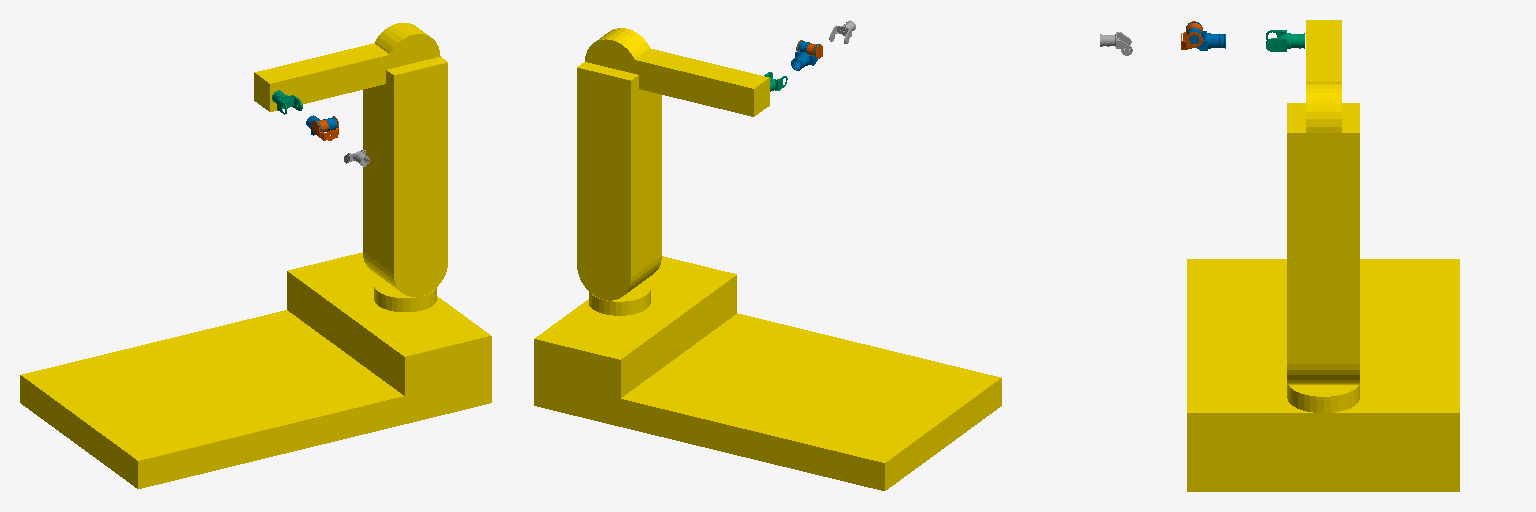
URDF robot description (rover_crane):
<?xml version="1.0" ?>
<robot name="rover_crane">

    <material name="gold">
        <color rgba="1 0.882 0 1"/>
    </material>

    <link name="rover_base_link">        
        <visual>
            <origin xyz="0 0 0.125" rpy="0 0 0" />
            <geometry>
               <box size="2.6 1.5 0.2"/>
            </geometry>
            <material name="gold"/>
        </visual>
        <collision>
            <origin xyz="0 0 0.125" rpy="0 0 0" />
            <geometry>
                <box size="2.6 1.5 0.2"/>
            </geometry>
        </collision>

        <visual>
            <!-- 1.3 - 0.32 -->
            <origin xyz=".98 0 0.35" rpy="0 0 0" />
            <geometry>
               <box size="0.64 1.5 0.3"/>
            </geometry>
            <material name="gold"/>
        </visual>
        <collision>
            <origin xyz=".98 0 0.35" rpy="0 0 0" />
            <geometry>
                <box size="0.64 1.5 0.3"/>
            </geometry>
        </collision>  
    </link>
    
    <link name="crane_base_link"/>

    <joint name="fix_to_chassis" type="fixed">
        <parent link="rover_base_link"/>
        <child link="crane_base_link"/>
        <origin xyz="1.1 0 0.5" rpy="0 0 0"/>
    </joint>

    <link name="crane_yaw">
        <visual>
            <origin xyz="0 0 0.05" rpy="0 0 0" />
            <geometry>
               <cylinder length="0.1" radius="0.2"/>
            </geometry>
            <material name="gold"/>
        </visual>
        <collision>
            <origin xyz="0 0 0.05" rpy="0 0 0" />
            <geometry>
                <cylinder length="0.1" radius="0.2"/>
            </geometry>
        </collision>    
    </link>
    
    <joint name="joint0_1" type="revolute">
        <parent link="crane_base_link"/>
        <child link="crane_yaw"/>
        <origin xyz="0 0 0" rpy="0 0 0"/>
        <axis xyz="0 0 1"/>
        <limit lower="-0.523599" upper="0.523599" effort="0" velocity="0"/>
    </joint>

    <link name="crane_link1">
        <visual>
            <origin xyz="0 0 0" rpy="1.5708 0 0" />
            <geometry>
               <cylinder length="0.4" radius="0.2"/>
            </geometry>
            <material name="gold"/>
        </visual>
        <collision>
            <origin xyz="0 0 0" rpy="1.5708 0 0" />
            <geometry>
                <cylinder length="0.4" radius="0.2"/>
            </geometry>
        </collision>  

        <visual>
            <origin xyz="-0.7 0 0" rpy="0 0 0" />
            <geometry>
               <box size="1.4 0.4 0.4"/>
            </geometry>
            <material name="gold"/>
        </visual>
        <collision>
            <origin xyz="-0.7 0 0" rpy="0 0 0" />
            <geometry>
                <box size="1.4 0.4 0.4"/>
            </geometry>
        </collision>
    </link>


    <joint name="joint0_2" type="revolute">
        <parent link="crane_yaw"/> 
        <child link="crane_link1"/>
        <origin xyz="0 0 0.3" rpy="0 1.5708 0"/>
        <axis xyz="0 1 0"/>
        <limit lower="0.0" upper="1.5708" effort="0" velocity="0"/>
    </joint>


    <link name="crane_link2">
        <visual>
            <origin xyz="0.55 0 0" rpy="0 0 0" />
            <geometry>
               <box size="1.1 0.35 0.35"/>
            </geometry>
            <material name="gold"/>
        </visual>
        <collision>
            <origin xyz="0.55 0 0" rpy="0 0 0" />
            <geometry>
                <box size="1.1 0.35 0.35"/>
            </geometry>
        </collision>
    </link>

    <joint name="joint0_3" type="prismatic">
        <parent link="crane_link1"/>
        <child link="crane_link2"/>
        <origin xyz="-1.4 0 0" rpy="0 0 0"/>
        <axis xyz="-1 0 0"/>
        <limit lower="0.0" upper="1.1" effort="0" velocity="0"/>
    </joint>

    <link name="crane_link3">
        <visual>
            <origin xyz="0.55 0 0" rpy="0 0 0" />
            <geometry>
               <box size="1.1 0.3 0.3"/>
            </geometry>
            <material name="gold"/>
        </visual>
        <collision>
            <origin xyz="0.55 0 0" rpy="0 0 0" />
            <geometry>
                <box size="1.1 0.3 0.3"/>
            </geometry>
        </collision>
    </link>

    <joint name="joint0_4" type="prismatic">
        <parent link="crane_link2"/>
        <child link="crane_link3"/>
        <origin xyz="0 0 0" rpy="0 0 0"/>
        <axis xyz="-1 0 0"/>
        <limit lower="0.0" upper="1.1" effort="0" velocity="0"/>
    </joint>

    <link name="crane_link4">
        <visual>
            <origin xyz="0.55 0 0" rpy="0 0 0" />
            <geometry>
               <box size="1.1 0.25 0.25"/>
            </geometry>
            <material name="gold"/>
        </visual>
        <collision>
            <origin xyz="0.55 0 0" rpy="0 0 0" />
            <geometry>
                <box size="1.1 0.25 0.25"/>
            </geometry>
        </collision>
    </link>

    <joint name="joint0_5" type="prismatic">
        <parent link="crane_link3"/>
        <child link="crane_link4"/>
        <origin xyz="0 0 0" rpy="0 0 0"/>
        <axis xyz="-1 0 0"/>
        <limit lower="0.0" upper="1.1" effort="0" velocity="0"/>
    </joint>

    <link name="tip">
        <visual>
            <origin xyz="0 0 0" rpy="1.5708 0 0" />
            <geometry>
               <cylinder length="0.2" radius="0.2"/>
            </geometry>
            <material name="gold"/>
        </visual>
        <collision>
            <origin xyz="0 0 0" rpy="1.5708 0 0" />
            <geometry>
               <cylinder length="0.2" radius="0.2"/>
            </geometry>
            <material name="gold"/>
        </collision>
        
        <visual>
            <!-- 0.5 + 0.054 -->
            <origin xyz="0 0 -0.554" rpy="0 0 0" />
            <geometry>
               <box size="0.2 0.2 1.0"/>
            </geometry>
            <material name="gold"/>
        </visual>
        <collision>
            <origin xyz="0 0 -0.554" rpy="0 0 0" />
            <geometry>
               <box size="0.2 0.2 1.0"/>
            </geometry>
            <material name="gold"/>
        </collision>
    </link>

    <joint name="tip_joint" type="revolute">
        <parent link="crane_link4"/>
        <child link="tip"/>
        <origin xyz="0 0 0" rpy="0 0 0"/>
        <axis xyz="0 1 0"/>
        <limit lower="0.0" upper="1.1" effort="0" velocity="0"/>
    </joint>

    <link name="tip_to_tippy"/>

    <joint name="tippy_tip" type="fixed">
        <parent link="tip"/>
        <child link="tip_to_tippy"/>
        <origin xyz="0 0 0" rpy="0 0 0"/>
    </joint>
    
    
    <link name="dyma_base_link">
    </link>

    <joint name="tippy_to_base" type="fixed">
        <parent link="tip_to_tippy"/>
        <child link="dyma_base_link"/>
        <origin xyz="0 -0.1 -1.0" rpy="1.5708 0 0"/>
    </joint>

    <link name="shld_yaw">
        <visual>
            <origin xyz="0 0 0" rpy="0 0 0" />
            <geometry>
               <mesh filename="package://dymaflight/urdf/meshes/shld_yaw.stl" scale="0.001 0.001 0.001"/>
            </geometry>
        </visual>
        <collision>
            <origin xyz="0 0 0" rpy="0 0 0" />
            <geometry>
               <mesh filename="package://dymaflight/urdf/meshes/shld_yaw.stl" scale="0.001 0.001 0.001"/>
            </geometry>
        </collision>
    </link>

    <joint name="joint1" type="revolute">
        <parent link="dyma_base_link" />
        <child link="shld_yaw" />
        <origin xyz="0 0 0.18161" rpy="0 0 0" />
        <axis xyz="0 0 1" />
        <limit effort="300" velocity="0.25" lower="-3.14159" upper="3.14159" />
    </joint>

    <link name="shld_ptch">
        <visual>
            <origin xyz="0 0 0" rpy="0 0 0" />
            <geometry>
               <mesh filename="package://dymaflight/urdf/meshes/shld_ptch.stl" scale="0.001 0.001 0.001"/>
            </geometry>
        </visual>
        <collision>
            <origin xyz="0 0 0" rpy="0 0 0" />
            <geometry>
               <mesh filename="package://dymaflight/urdf/meshes/shld_ptch.stl" scale="0.001 0.001 0.001"/>
            </geometry>
        </collision>
    </link>

    <joint name="joint2" type="revolute">
        <parent link="shld_yaw" />
        <child link="shld_ptch" />

        <origin xyz="0 0 0" rpy="-1.5708 0 3.14159 " />
        <axis xyz="0 0 1" />
        <limit effort="300" velocity="0.25" lower="-3.14159" upper="3.14159" />
    </joint>

    <link name="shld_roll">
        <visual>
            <origin xyz="0 0 0" rpy="0 0 0" />
            <geometry>
               <mesh filename="package://dymaflight/urdf/meshes/shld_roll.stl" scale="0.001 0.001 0.001"/>
            </geometry>
        </visual>
        <collision>
            <origin xyz="0 0 0" rpy="0 0 0" />
            <geometry>
               <mesh filename="package://dymaflight/urdf/meshes/shld_roll.stl" scale="0.001 0.001 0.001"/>
            </geometry>
        </collision>
    </link>

    <joint name="joint3" type="revolute">
        <parent link="shld_ptch" />
        <child link="shld_roll" />
        <origin xyz="0 -0.430022 0" rpy="1.5708 0 0" />
        <axis xyz="0 0 1" />
        <limit effort="300" velocity="0.25" lower="-3.14159" upper="3.14159" />
    </joint>

    <link name="elbw_ptch">
        <visual>
            <origin xyz="0 0 0" rpy="0 0 0" />
            <geometry>
               <mesh filename="package://dymaflight/urdf/meshes/elbw_ptch.stl" scale="0.001 0.001 0.001"/>
            </geometry>
        </visual>
        <collision>
            <origin xyz="0 0 0" rpy="0 0 0" />
            <geometry>
               <mesh filename="package://dymaflight/urdf/meshes/elbw_ptch.stl" scale="0.001 0.001 0.001"/>
            </geometry>
        </collision>
    </link>

    <joint name="joint4" type="revolute">
        <parent link="shld_roll" />
        <child link="elbw_ptch" />
        <origin xyz="0.041402 0 0" rpy="-1.5708 -3.14159 0" />
        <axis xyz="0 0 1" />
        <limit effort="300" velocity="0.25" lower="-3.14159" upper="3.14159" />
    </joint>

    <link name="wrst_roll">
        <visual>
            <origin xyz="0 0 0" rpy="0 0 0" />
            <geometry>
               <mesh filename="package://dymaflight/urdf/meshes/wrst_roll.stl" scale="0.001 0.001 0.001"/>
            </geometry>
        </visual>
        <collision>
            <origin xyz="0 0 0" rpy="0 0 0" />
            <geometry>
               <mesh filename="package://dymaflight/urdf/meshes/wrst_roll.stl" scale="0.001 0.001 0.001"/>
            </geometry>
        </collision>
    </link>

    <joint name="joint5" type="revolute">
        <parent link="elbw_ptch" />
        <child link="wrst_roll" />
        <origin xyz="0.041402 0.37084 0" rpy="-1.5708 0 0" />
        <axis xyz="0 0 1" />
        <limit effort="300" velocity="0.25" lower="-3.14159" upper="3.14159" />
    </joint>

    <link name="wrst_ptch">
        <visual>
            <origin xyz="0 0 0" rpy="0 0 0" />
            <geometry>
               <mesh filename="package://dymaflight/urdf/meshes/wrst_ptch.stl" scale="0.001 0.001 0.001"/>
            </geometry>
        </visual>
        <collision>
            <origin xyz="0 0 0" rpy="0 0 0" />
            <geometry>
               <mesh filename="package://dymaflight/urdf/meshes/wrst_ptch.stl" scale="0.001 0.001 0.001"/>
            </geometry>
        </collision>
    </link>

    <joint name="joint6" type="revolute">
        <parent link="wrst_roll" />
        <child link="wrst_ptch" />
        <origin xyz="0.033274 -0.007366 0" rpy="-1.5708 0 3.14159" />
        <axis xyz="0 0 1" />
        <limit effort="300" velocity="0.25" lower="-3.14159" upper="3.14159" />
    </joint>

    <link name="tool_roll">
        <visual>
            <origin xyz="0 0 0" rpy="0 0 0" />
            <geometry>
               <mesh filename="package://dymaflight/urdf/meshes/tool_roll.stl" scale="0.001 0.001 0.001"/>
            </geometry>
        </visual>
        <collision>
            <origin xyz="0 0 0" rpy="0 0 0" />
            <geometry>
               <mesh filename="package://dymaflight/urdf/meshes/tool_roll.stl" scale="0.001 0.001 0.001"/>
            </geometry>
        </collision>
    </link>

    <joint name="joint7" type="revolute">
        <parent link="wrst_ptch" />
        <child link="tool_roll" />
        <origin xyz="0.033274 0 0" rpy="1.5708 0 0" />
        <axis xyz="0 0 1" />
        <limit effort="300" velocity="0.25" lower="-3.14159" upper="3.14159" />
    </joint>

</robot>

--- Facts derived from the render (not from the file) ---
The picture shows the robot from 3 angles, left to right: view 1: azimuth 30°, elevation 25°; view 2: azimuth 150°, elevation 25°; view 3: azimuth 270°, elevation 25°; orthographic projection.
Model rover_crane with 17 links and 16 joints (10 revolute, 3 prismatic, 3 fixed), rooted at rover_base_link, posed every joint at zero.
Links seen in each view (by area): view 1: rover_base_link, crane_link1, tip, crane_yaw; view 2: rover_base_link, crane_link1, tip, crane_yaw; view 3: rover_base_link, crane_link1, tip, crane_yaw, shld_yaw, shld_roll.
Boxes of the visible links, bbox=[...] form: rover_base_link: bbox=[20, 252, 491, 488]; crane_link1: bbox=[363, 57, 447, 296]; tip: bbox=[254, 23, 440, 111]; crane_yaw: bbox=[374, 277, 436, 311]; rover_base_link: bbox=[534, 256, 1001, 490]; crane_link1: bbox=[577, 62, 661, 300]; tip: bbox=[585, 28, 769, 116]; crane_yaw: bbox=[589, 281, 650, 315]; rover_base_link: bbox=[1187, 259, 1459, 491]; crane_link1: bbox=[1287, 103, 1359, 384]; tip: bbox=[1306, 20, 1341, 132]; crane_yaw: bbox=[1287, 385, 1359, 412]; shld_yaw: bbox=[1266, 30, 1304, 51]; shld_roll: bbox=[1186, 22, 1225, 50].
Size in the robot's own frame: 2.6 by 1.98 by 2.38 metres.
4 mesh visuals loaded from 7 distinct referenced files (4 binary STL); not drawn: 3 (reference not matched to a file when rendering).